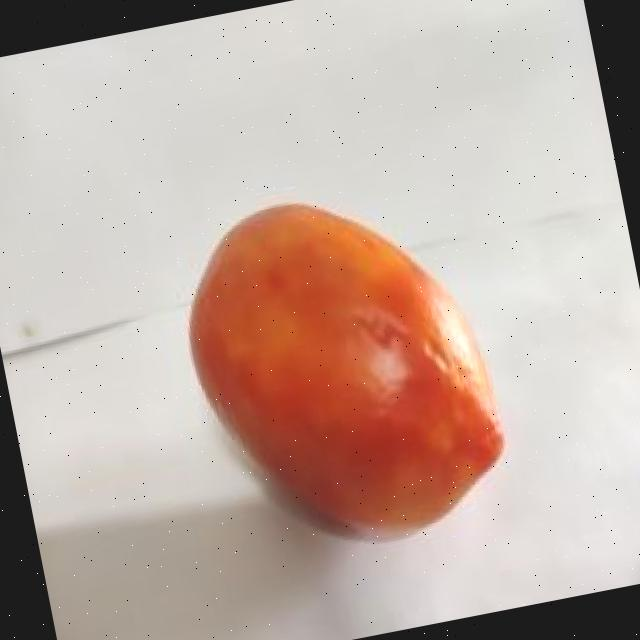Ripe: (158, 161, 524, 576)
